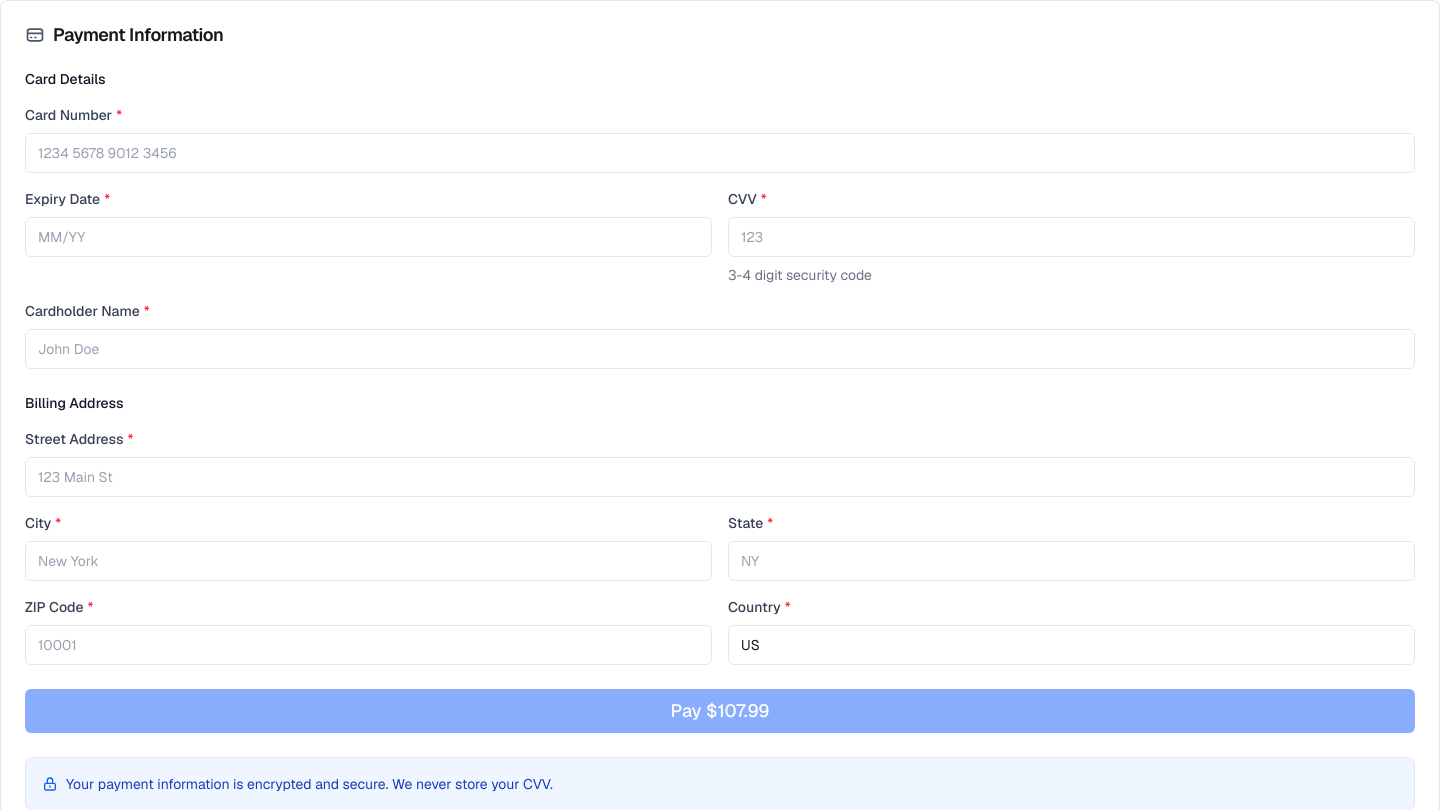
Scenario: PaymentForm Component › Form Input Formatting › should limit CVV to 3 digits for non-Amex cards
This screenshot has width=1440, height=810.
Type "12345" into the password field labelled "CVV*" at (1072, 237), box [728,217,1415,257]
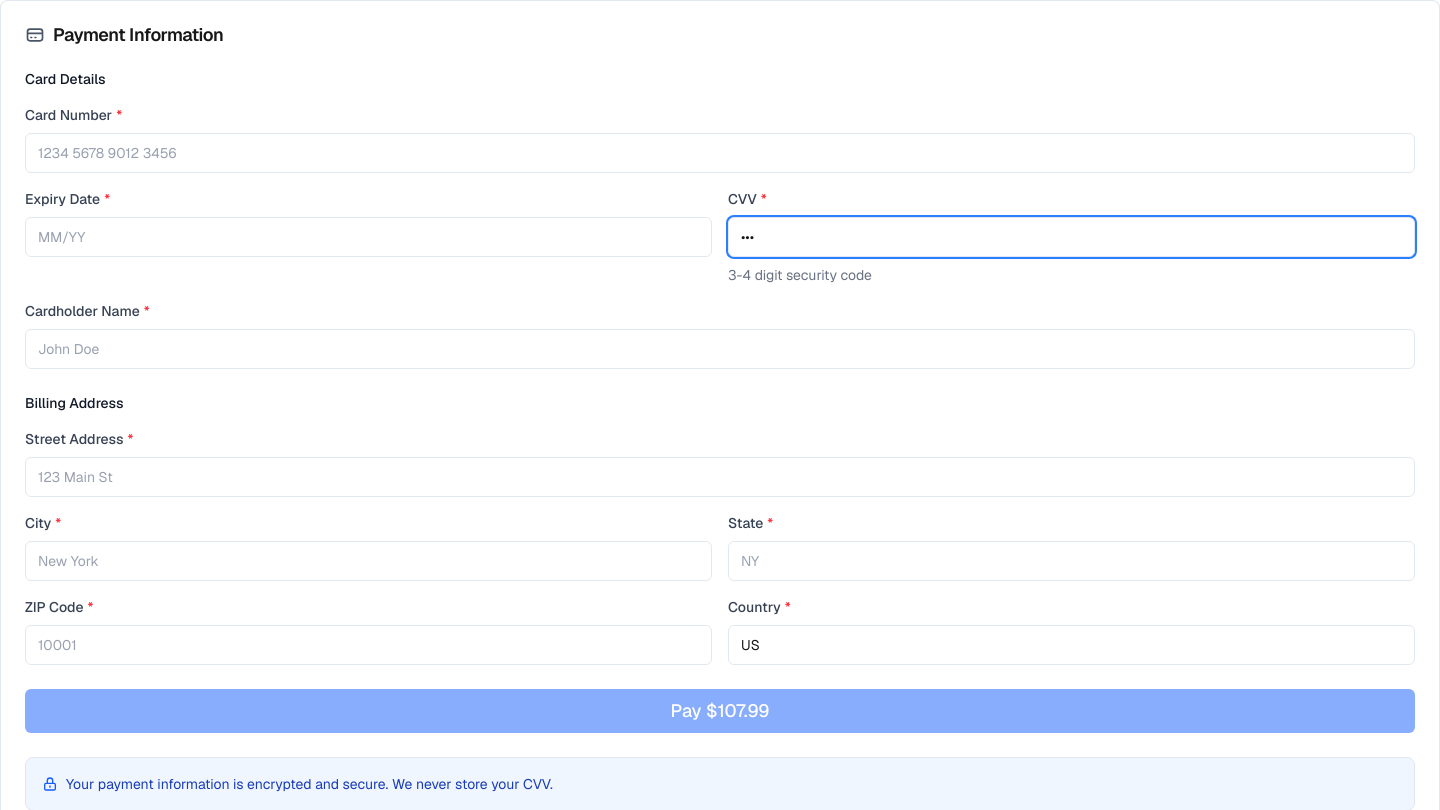
Now the password field labelled "CVV*" holds "123", box [728,217,1415,257]
